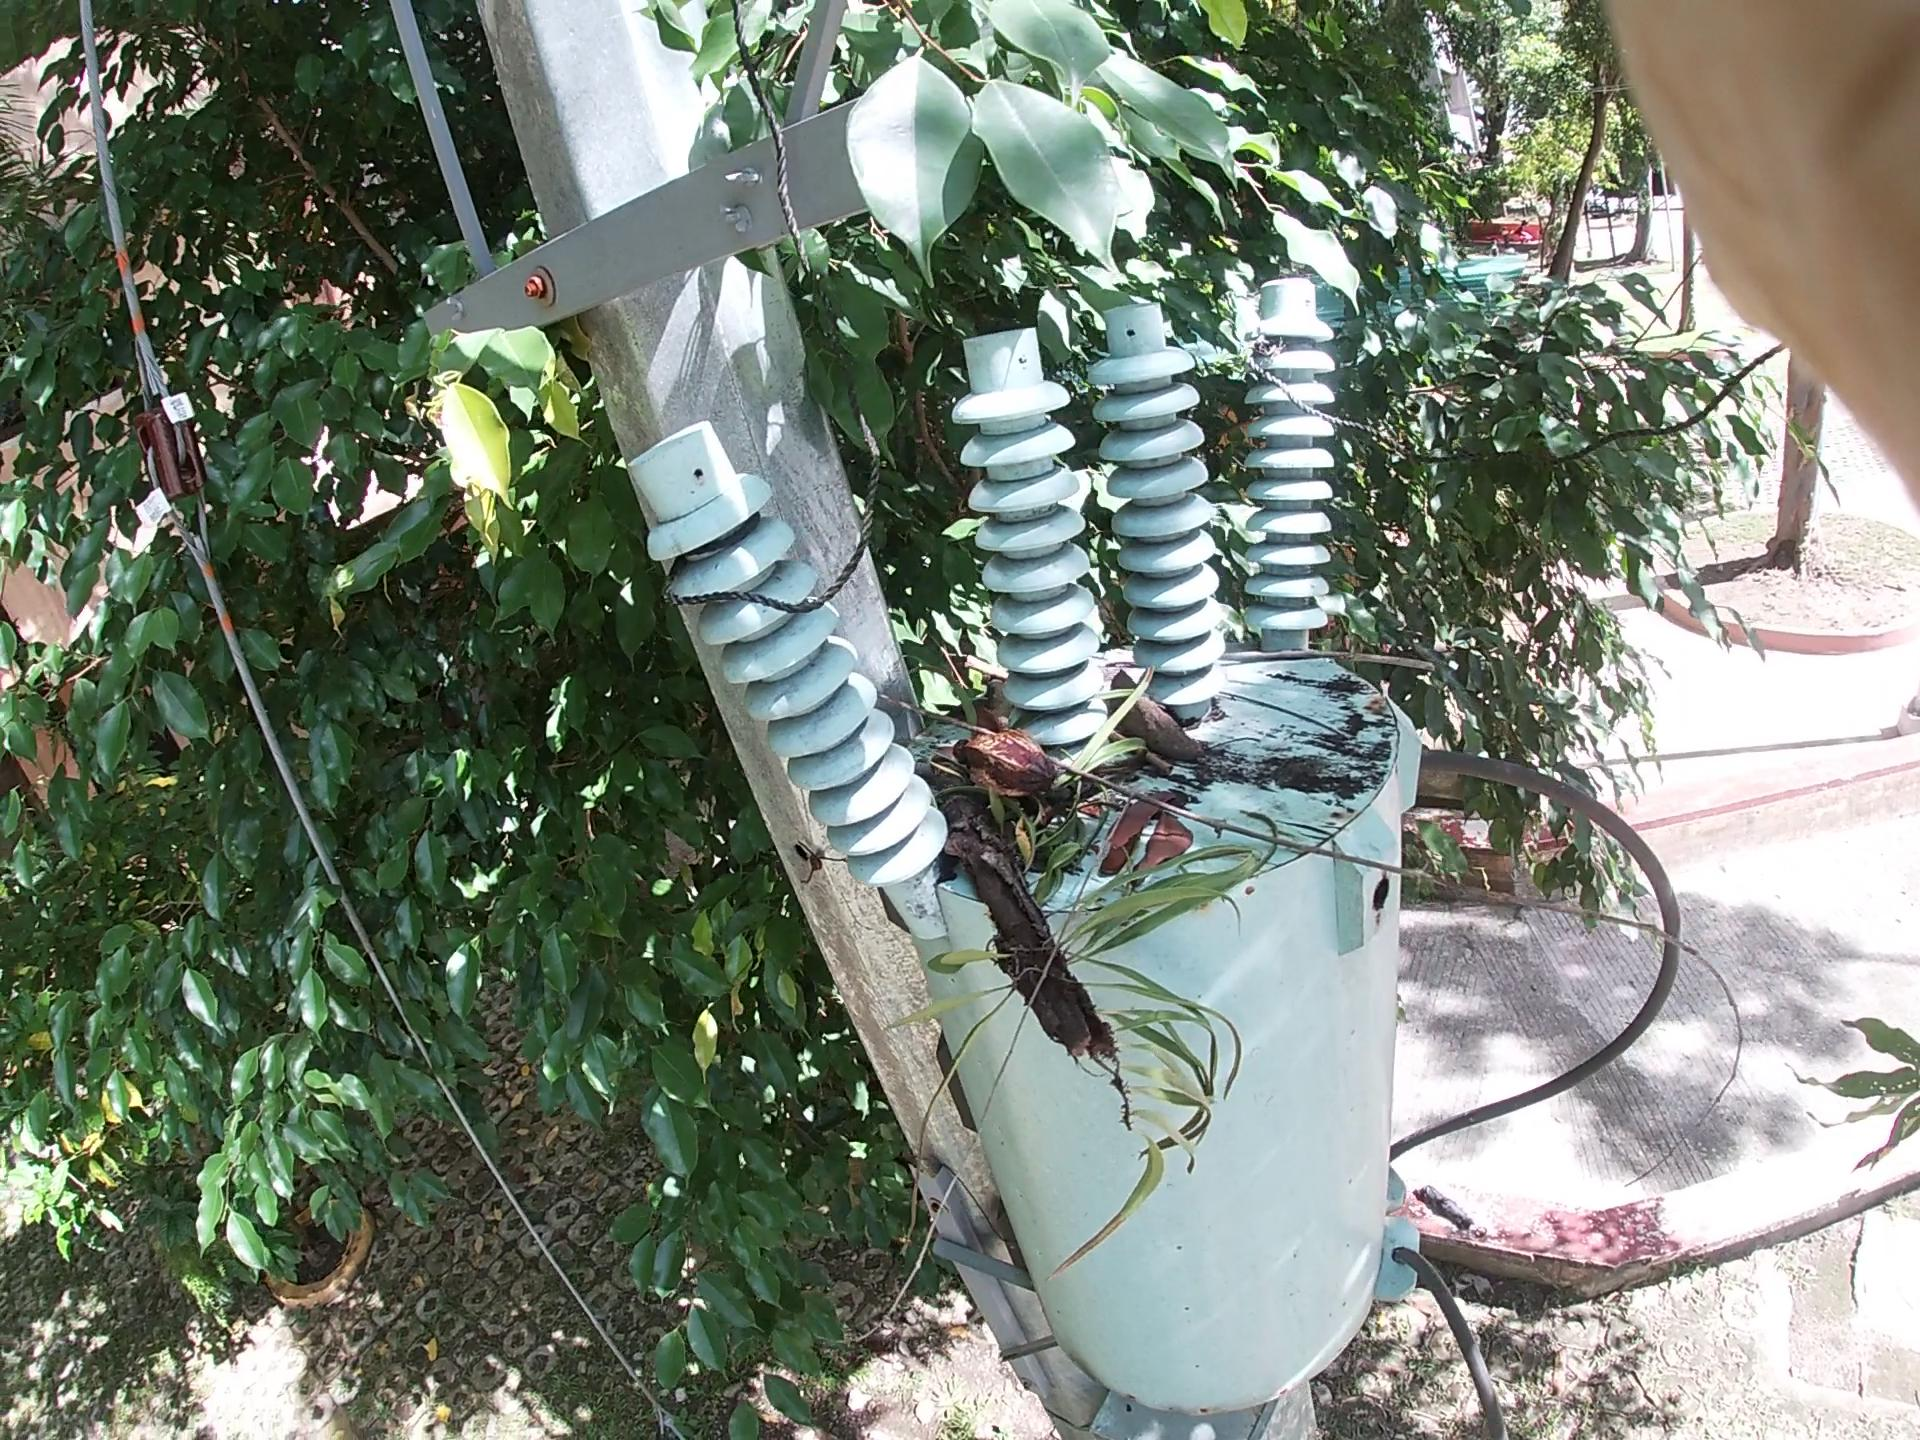branch with leaves: (909, 728, 1134, 1130)
leaf: (974, 604, 1677, 729), (1085, 791, 1241, 911)
mahogany fruit: (1079, 663, 1200, 797), (892, 703, 1061, 777)
tree branch: (845, 675, 1761, 1001)
